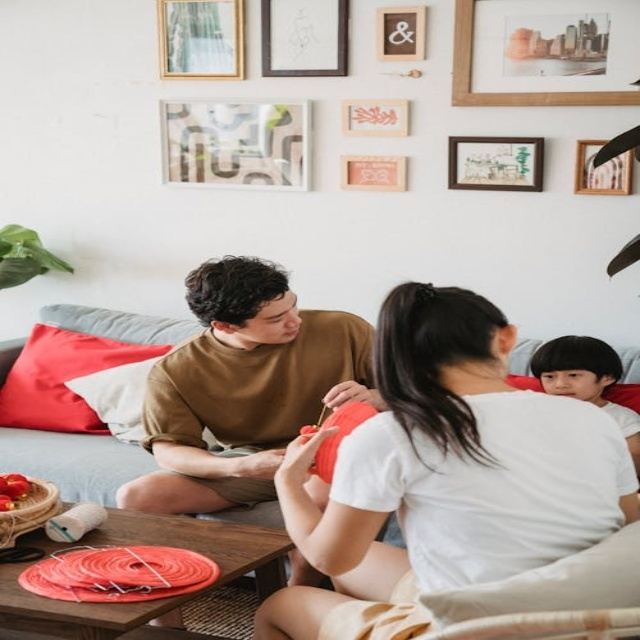Sin_gafas: (252, 294, 302, 323), (541, 369, 582, 381)
Sin_guantes: (271, 420, 339, 487), (320, 379, 376, 412)
Sin_mascara: (268, 322, 303, 340), (552, 385, 579, 396)
